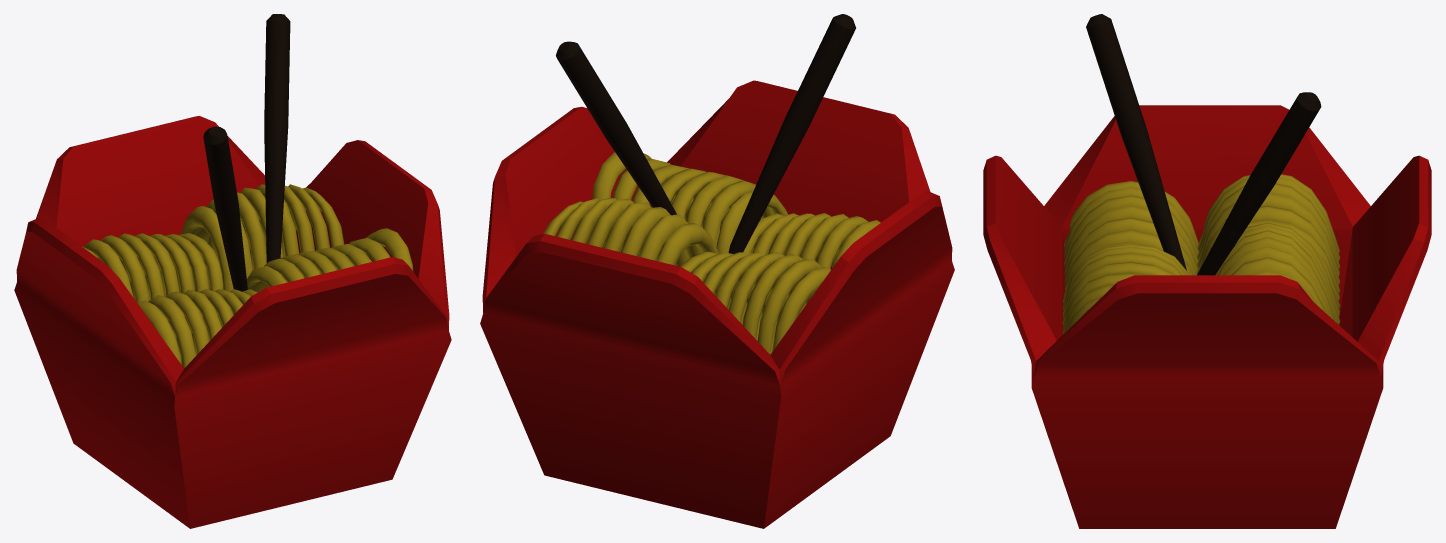
Rendered from Noodles_2.FBX.
The picture shows the model from 3 angles, left to right: view 1: azimuth 30°, elevation 25°; view 2: azimuth 150°, elevation 25°; view 3: azimuth 270°, elevation 25°; orthographic projection. The views are drawn at different scales.
Visible parts, largest first — view 1: Noodles_2; view 2: Noodles_2; view 3: Noodles_2.
Boxes of the visible parts, x1=… form: Noodles_2: x1=14, y1=14, x2=451, y2=528; Noodles_2: x1=480, y1=14, x2=954, y2=528; Noodles_2: x1=983, y1=14, x2=1431, y2=528.
Size of the model in its own units: 968 by 1014 by 1125.
